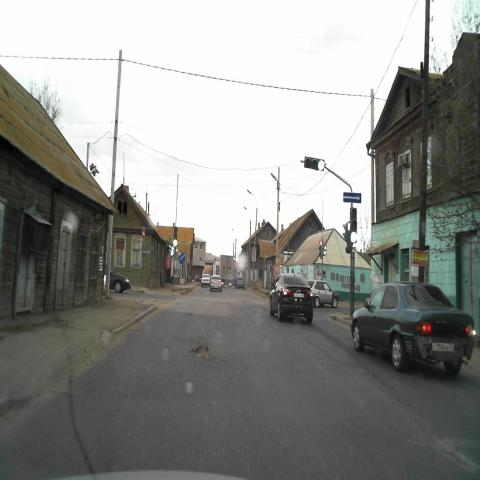5_7_1: (343, 192, 361, 204)
